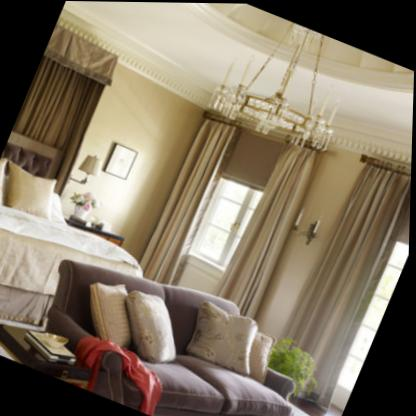Curtains: (213, 141, 320, 318), (139, 119, 241, 286)
